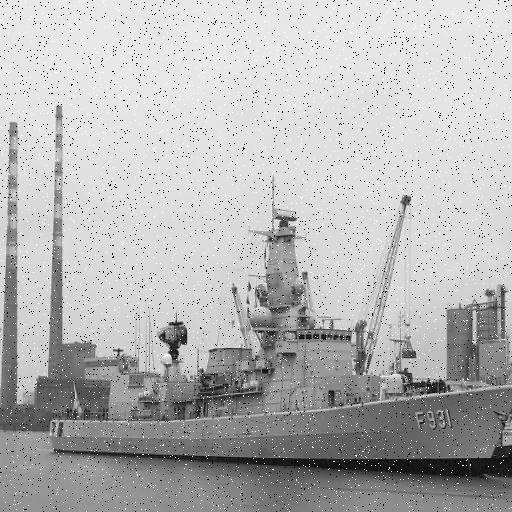Fragata: (51, 200, 512, 489)
